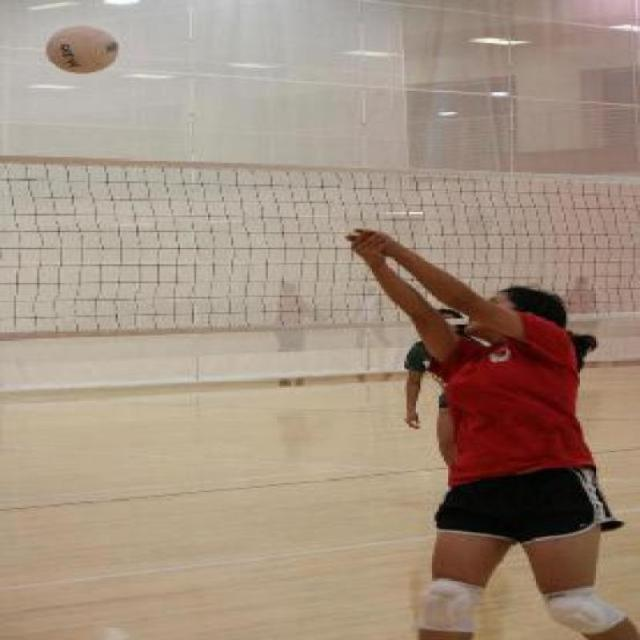volleyball: (46, 23, 122, 72)
